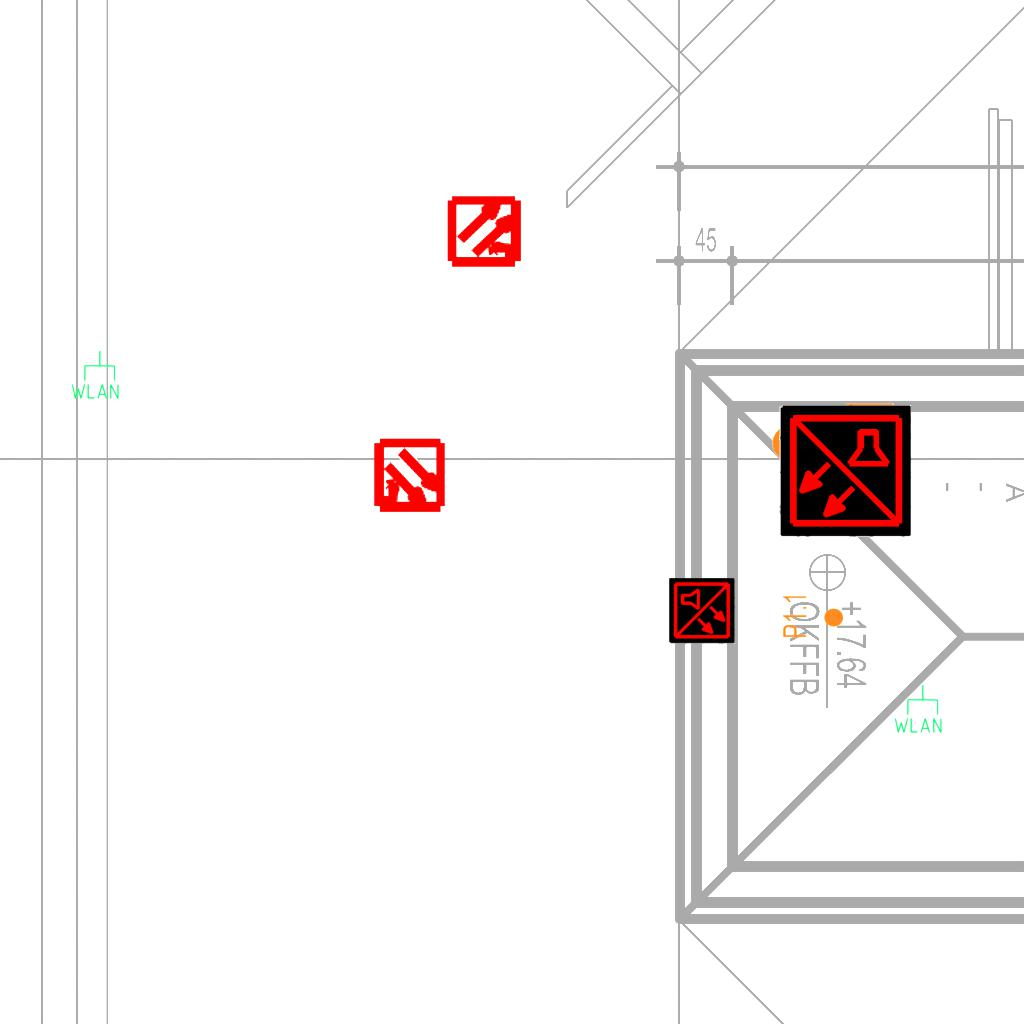Downlight_LED_Einbauleuchten_Flur: (769, 400, 897, 493), (781, 593, 845, 639)
OKW_Multisensormelder_(Kombination_optischer_Rauch-Kahlenmonoxid_Waerme-Melder): (779, 405, 911, 537), (669, 578, 735, 644)
OT_Multisensormelder_(Kombination_RMO_WMD): (353, 421, 466, 534), (430, 175, 543, 288)
WLAN: (892, 683, 944, 735), (69, 349, 121, 401)
